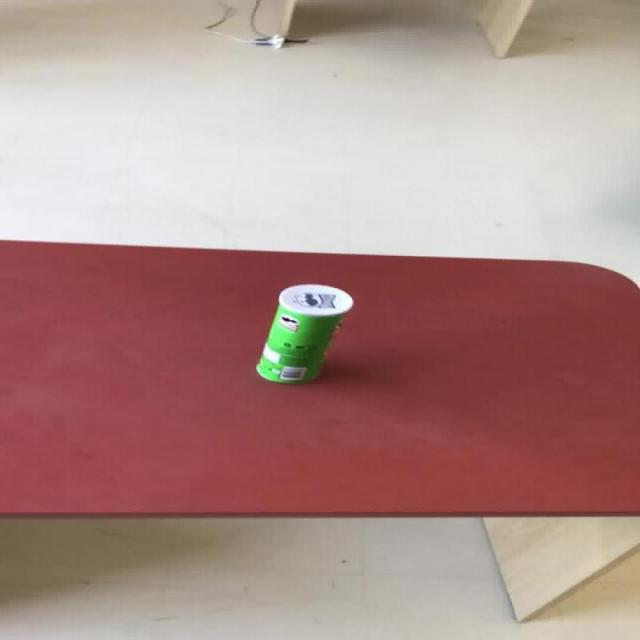Pringles: (254, 282, 354, 384)
